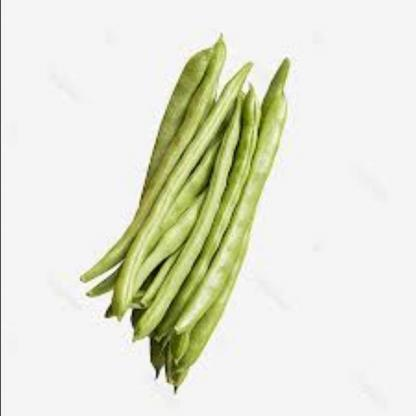beans: (71, 33, 303, 398)
